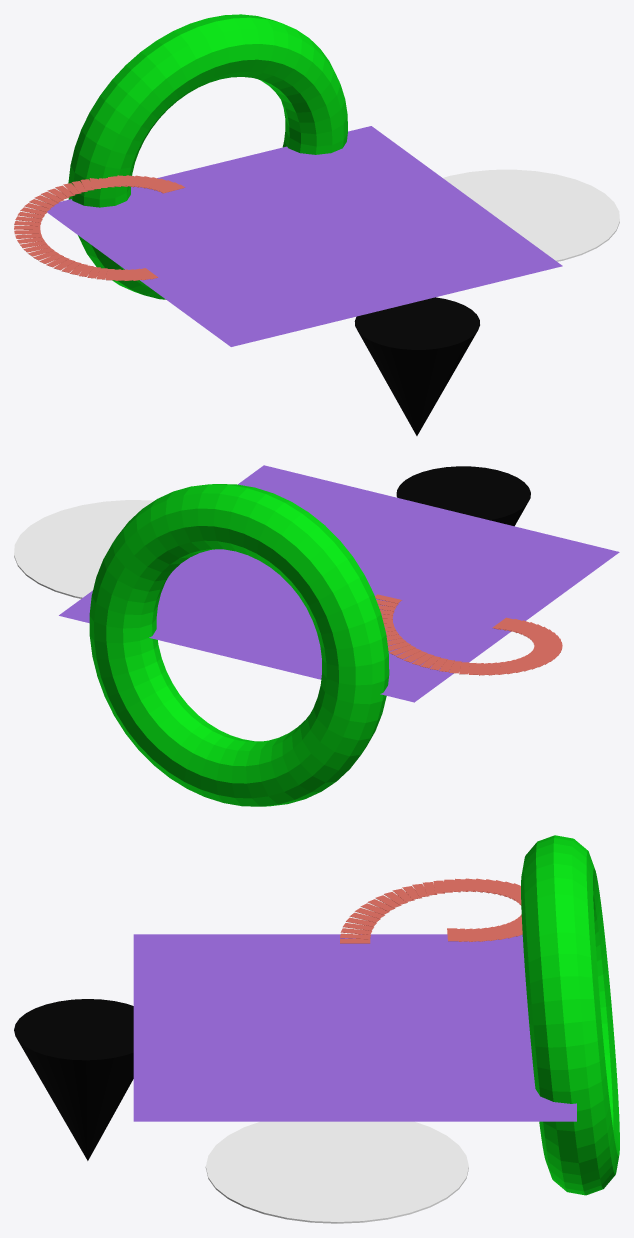
File: space3.glb
3 views of the same model, one above another, from view 1: azimuth 30°, elevation 25°; view 2: azimuth 150°, elevation 25°; view 3: azimuth 270°, elevation 25° (orthographic). The views are drawn at different scales.
Parts seen in each view (by area): view 1: Plane, Torus, Cylinder, Cone, Cube; view 2: Torus, Plane, Cylinder, Cone, Cube; view 3: Plane, Torus, Cylinder, Cone, Cube.
Part boxes in pixels (x1,y1,x2,y2): Plane: (47, 126, 562, 346); Torus: (68, 14, 347, 299); Cylinder: (443, 169, 619, 261); Cone: (354, 297, 479, 435); Cube: (14, 175, 185, 280); Torus: (89, 484, 389, 806); Plane: (59, 465, 619, 702); Cylinder: (14, 500, 153, 598); Cone: (396, 466, 530, 526); Cube: (375, 594, 562, 675); Plane: (133, 934, 576, 1121); Torus: (521, 835, 619, 1195); Cylinder: (205, 1121, 468, 1223); Cone: (14, 999, 133, 1160); Cube: (340, 878, 522, 943).
Size of the model in its own units: 4688 by 2382 by 4005.
